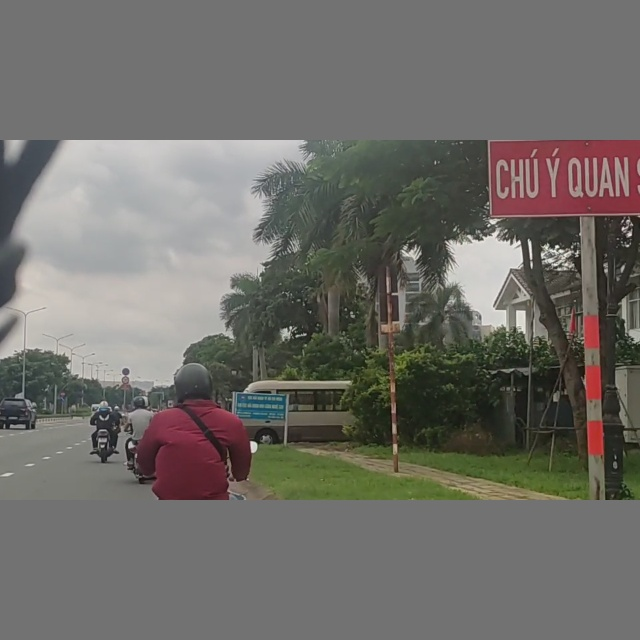P.102: (59, 391, 66, 397)
P.130: (122, 368, 131, 376)
R.302a: (60, 396, 66, 402)
